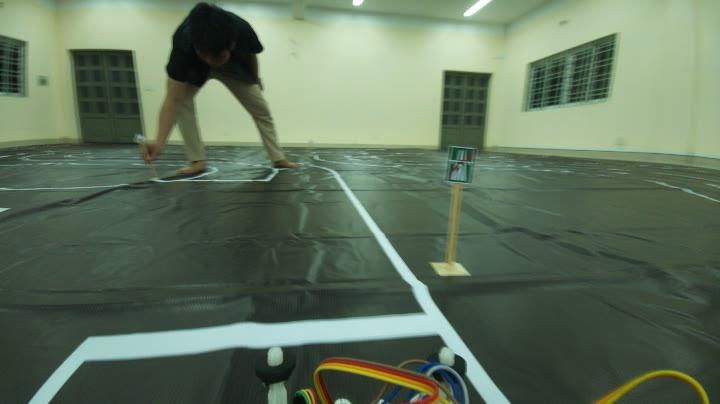highway_exit: (443, 142, 482, 188)
